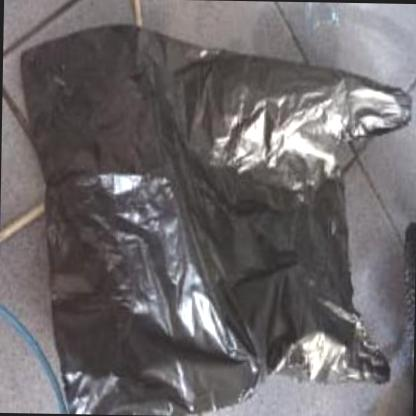objects: (9, 15, 410, 416)
